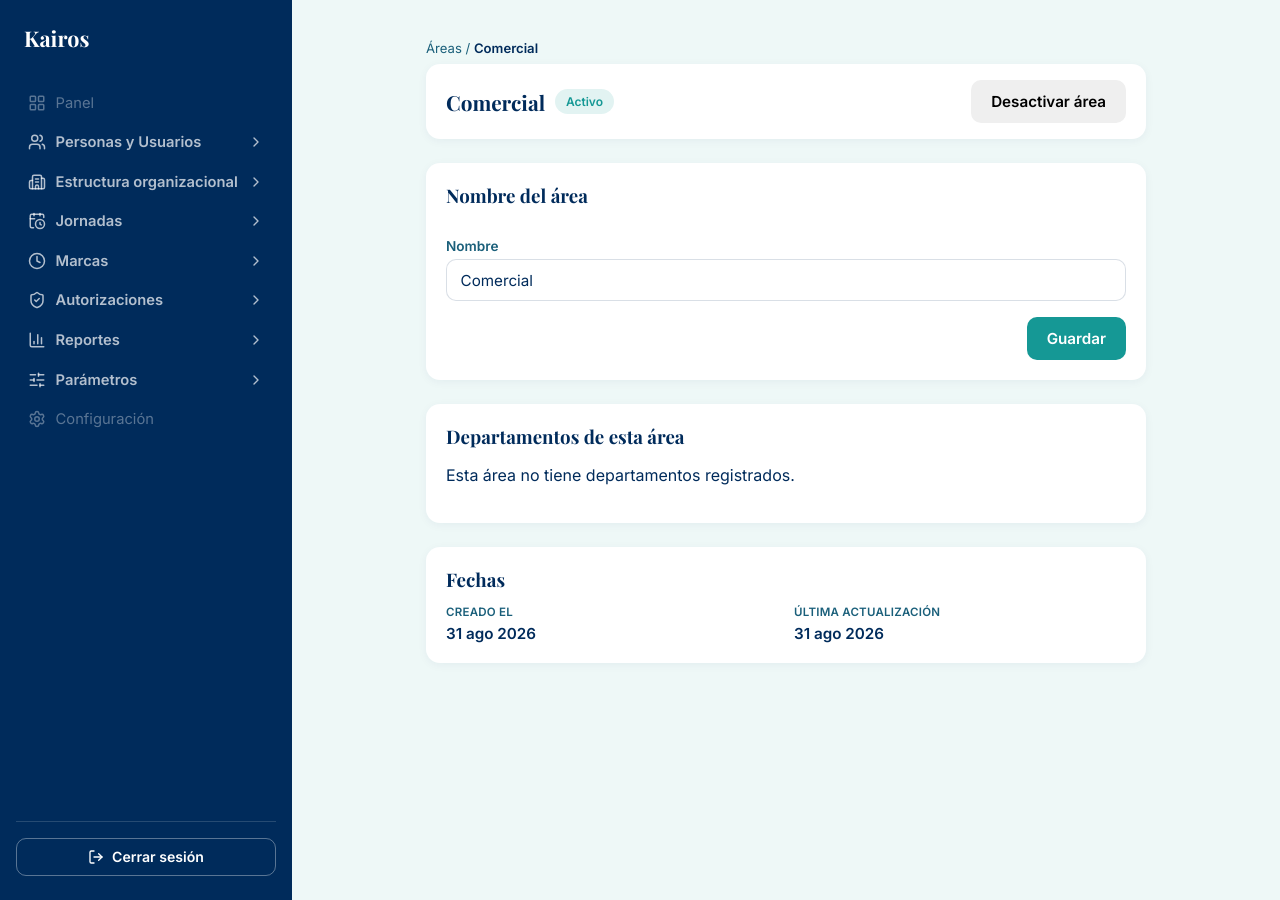
Test: FichaAreaPage › muestra error de nombre duplicado al renombrar (409)
The image size is (1280, 900).
Expected: the text "Comercial" next to "Áreas" is shown, x1=474 y1=40 x2=538 y2=56
Click the button "Guardar" at (1076, 338), box x1=1027 y1=317 x2=1126 y2=360
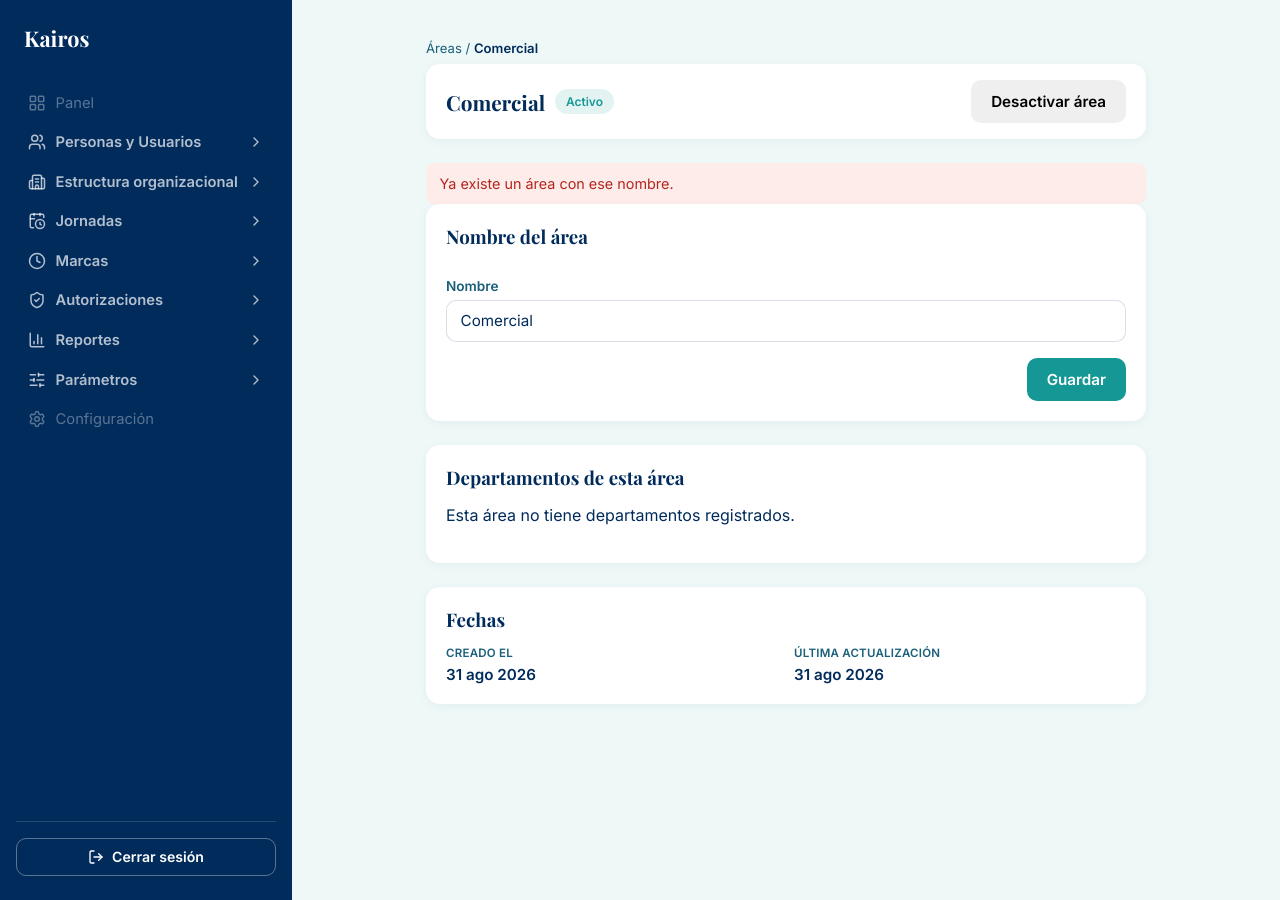
Result: the text "Ya existe un área con ese nombre." is shown at x1=426 y1=163 x2=1146 y2=204
